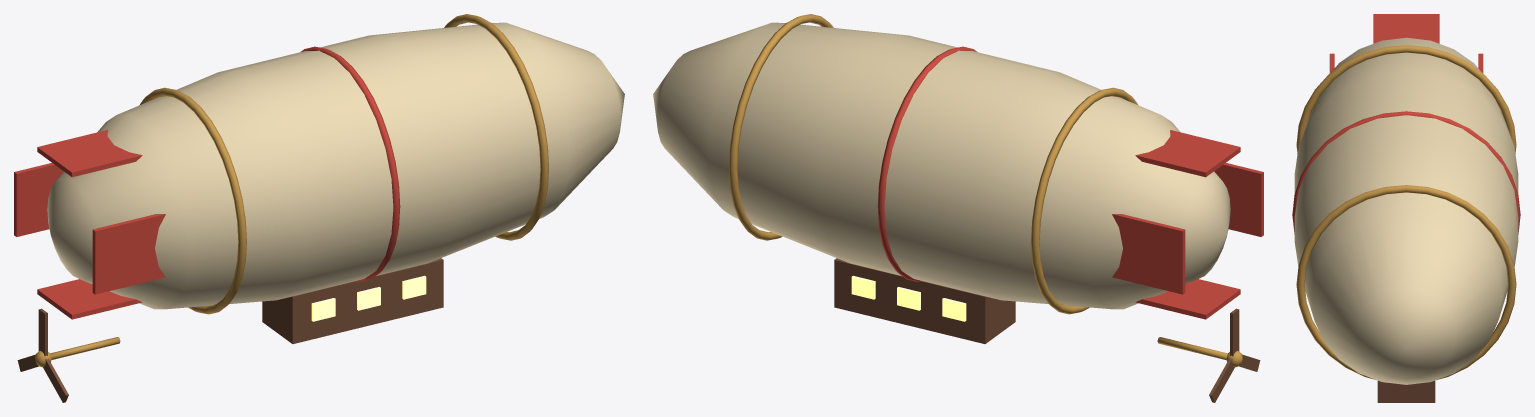
The model's file is zeppelin.glb.
The picture shows the model from 3 angles, left to right: view 1: azimuth 30°, elevation 25°; view 2: azimuth 150°, elevation 25°; view 3: azimuth 270°, elevation 25°; orthographic projection. The views are drawn at different scales.
Parts seen in each view (by area): view 1: envelope, gondola, fin-2, fin-1, band--2.0, band-2.0, fin-0, fin-3, band-0, shaft; view 2: envelope, gondola, fin-0, fin-1, band--2.0, band-2.0, fin-2, fin-3, band-0, shaft; view 3: envelope, band-2.0, band--2.0, fin-1, band-0, gondola.
Boxes of the visible parts, x1=… form: envelope: x1=47, y1=22, x2=624, y2=309; gondola: x1=262, y1=258, x2=443, y2=343; fin-2: x1=92, y1=214, x2=165, y2=294; fin-1: x1=37, y1=130, x2=142, y2=177; band--2.0: x1=139, y1=87, x2=246, y2=314; band-2.0: x1=444, y1=14, x2=548, y2=240; fin-0: x1=14, y1=163, x2=63, y2=236; fin-3: x1=37, y1=279, x2=142, y2=319; band-0: x1=301, y1=46, x2=400, y2=281; shaft: x1=50, y1=337, x2=120, y2=359; envelope: x1=653, y1=22, x2=1230, y2=309; gondola: x1=834, y1=258, x2=1015, y2=343; fin-0: x1=1112, y1=214, x2=1185, y2=294; fin-1: x1=1135, y1=130, x2=1240, y2=177; band--2.0: x1=1031, y1=87, x2=1138, y2=314; band-2.0: x1=729, y1=14, x2=833, y2=240; fin-2: x1=1214, y1=163, x2=1263, y2=236; fin-3: x1=1135, y1=279, x2=1240, y2=319; band-0: x1=877, y1=46, x2=976, y2=281; shaft: x1=1157, y1=337, x2=1227, y2=359; envelope: x1=1294, y1=37, x2=1518, y2=384; band-2.0: x1=1296, y1=185, x2=1516, y2=382; band--2.0: x1=1296, y1=45, x2=1516, y2=153; fin-1: x1=1373, y1=14, x2=1439, y2=43; band-0: x1=1292, y1=111, x2=1520, y2=234; gondola: x1=1377, y1=380, x2=1435, y2=402.
Bounding box in the file's own units: 7.8 × 3.33 × 2.76.
